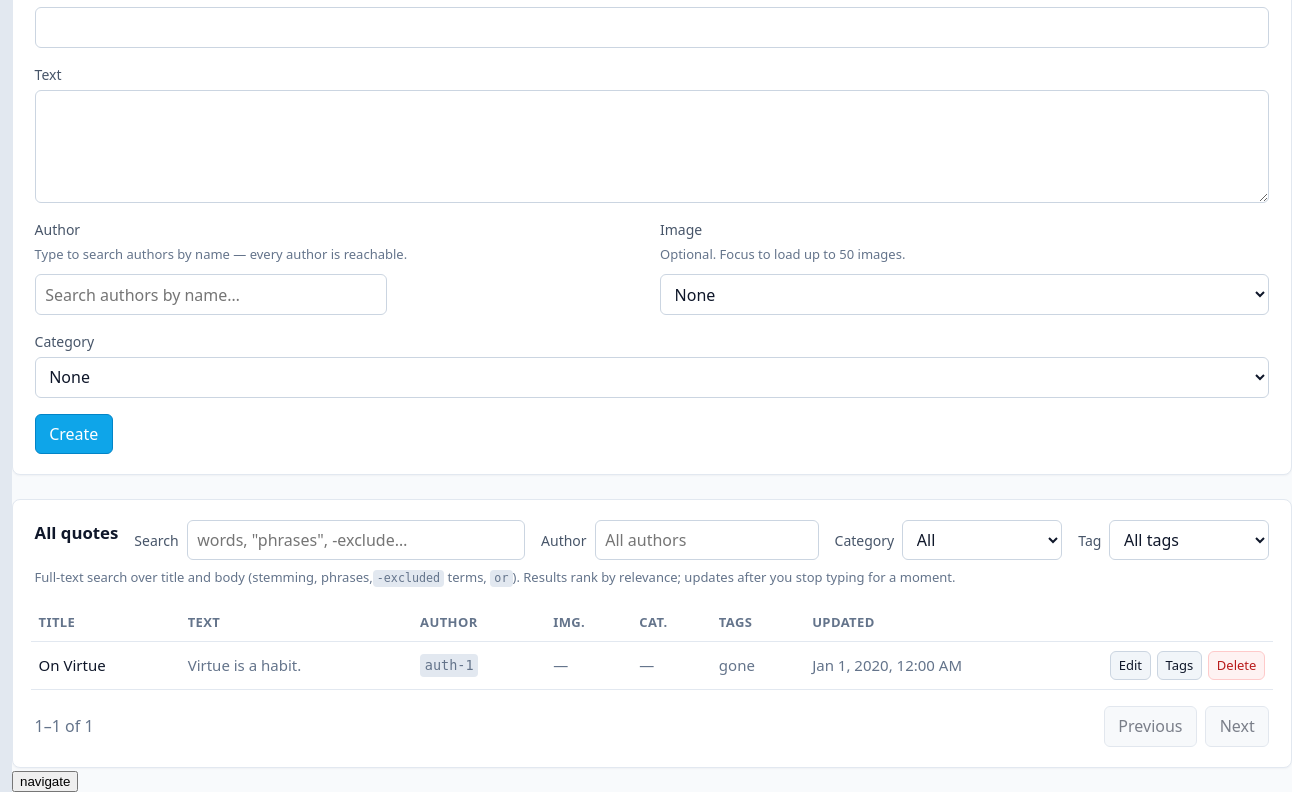
Test case: QuotesPage › tag management › surfaces parent-404 (quote gone) as a stable refresh prompt
(page scrolled)
Expected: the link "On Virtue" is shown, 39,655 -> 106,675
Click the button with aria-label "manage tags for on virtue".
click(1179, 666)  # box 1157,651 -> 1202,680
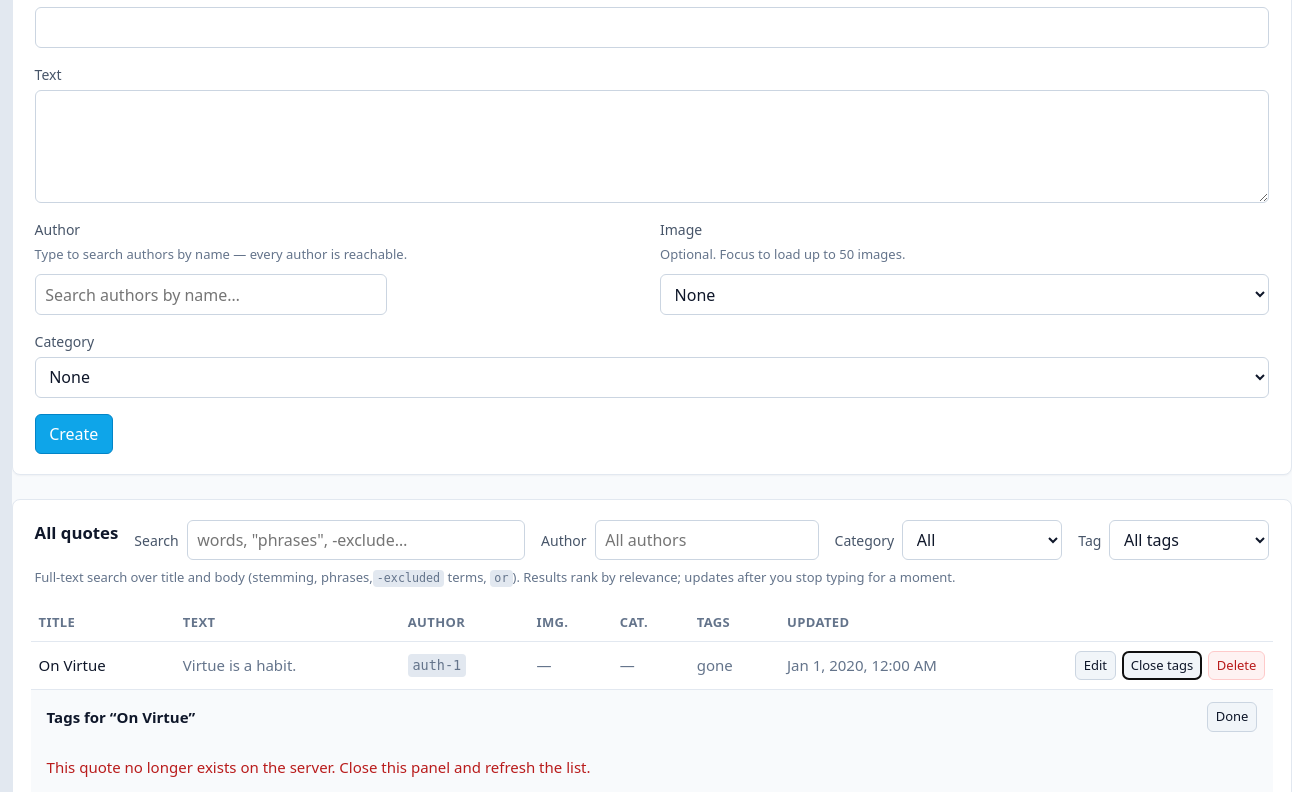
Result: the text "this quote no longer exists on the server. close this panel and refresh the list." is shown at 47,757 -> 590,777
